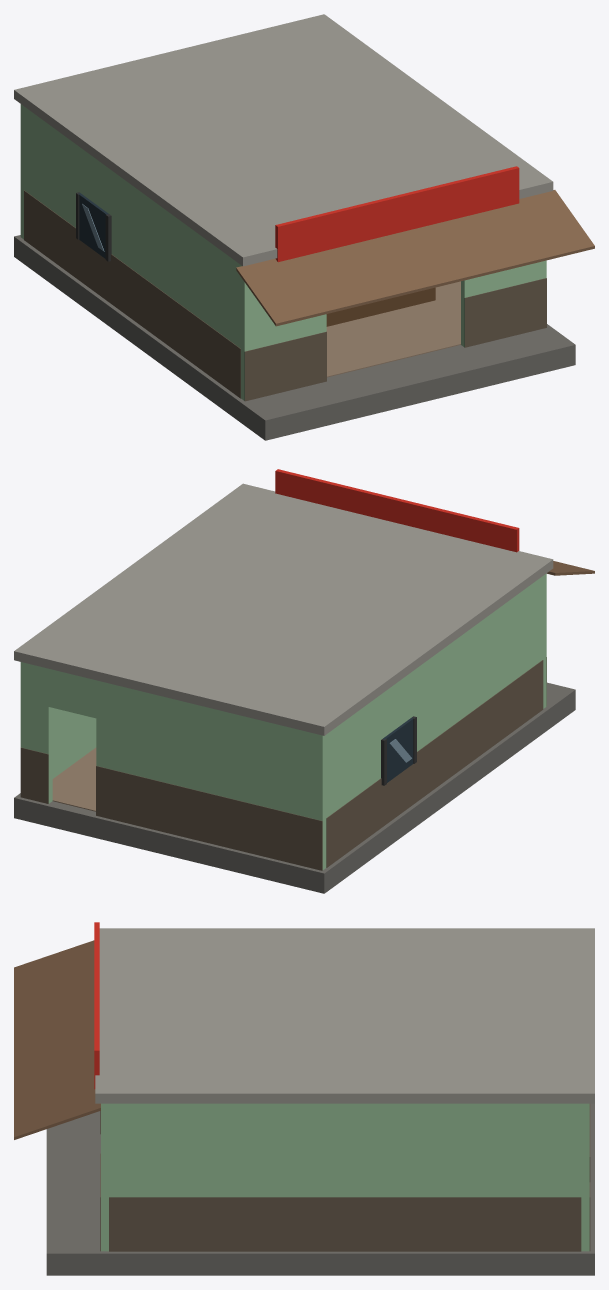
Rendered from venda_bar_a.glb.
3 views of the same model, one above another, from view 1: azimuth 30°, elevation 25°; view 2: azimuth 150°, elevation 25°; view 3: azimuth 270°, elevation 25° (orthographic). The views are drawn at different scales.
Visible parts, largest first — view 1: venda_bar_a; view 2: venda_bar_a; view 3: venda_bar_a.
Boxes of the visible parts, x1,y1,x2,y2 form: venda_bar_a: (14, 14, 594, 440); venda_bar_a: (14, 469, 594, 893); venda_bar_a: (14, 922, 594, 1275).
Bounding box in the file's own units: 7.4 × 4.2 × 10.7.
